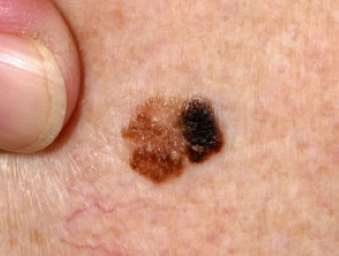seborrheic keratosis: (109, 78, 241, 191)
